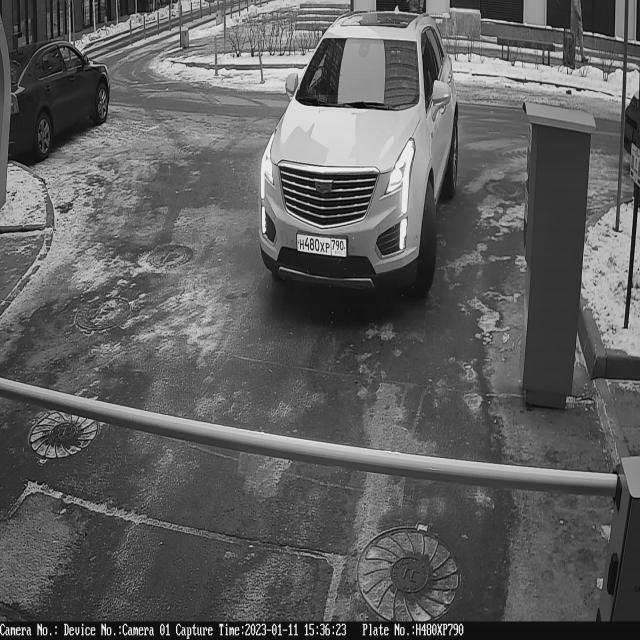car-plate-numbers: (295, 231, 350, 266)
